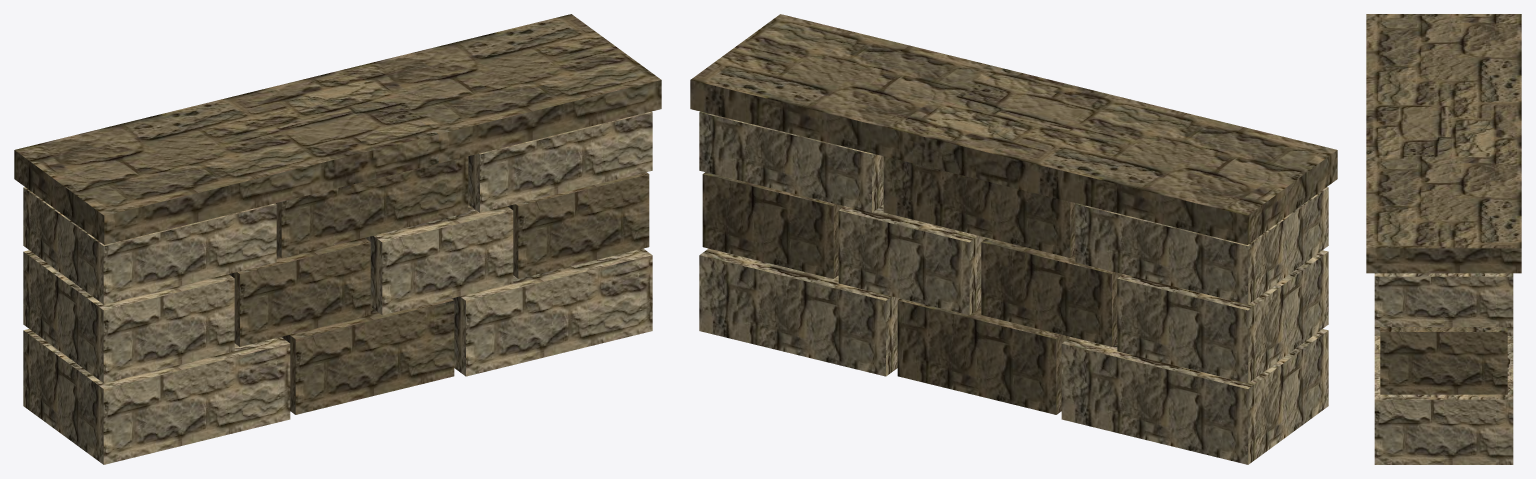
File: low_stone_wall_01.glb
The picture shows the model from 3 angles, left to right: view 1: azimuth 30°, elevation 25°; view 2: azimuth 150°, elevation 25°; view 3: azimuth 270°, elevation 25°; orthographic projection. The views are drawn at different scales.
Visible parts, largest first — view 1: low_stone_wall_01; view 2: low_stone_wall_01; view 3: low_stone_wall_01.
Boxes of the visible parts, x1,y1,x2,y2 form: low_stone_wall_01: (14,14,661,464); low_stone_wall_01: (690,14,1337,464); low_stone_wall_01: (1366,14,1521,464).
Size of the model in its own units: 2 by 0.87 by 0.56.
2 materials, 2 textured.
